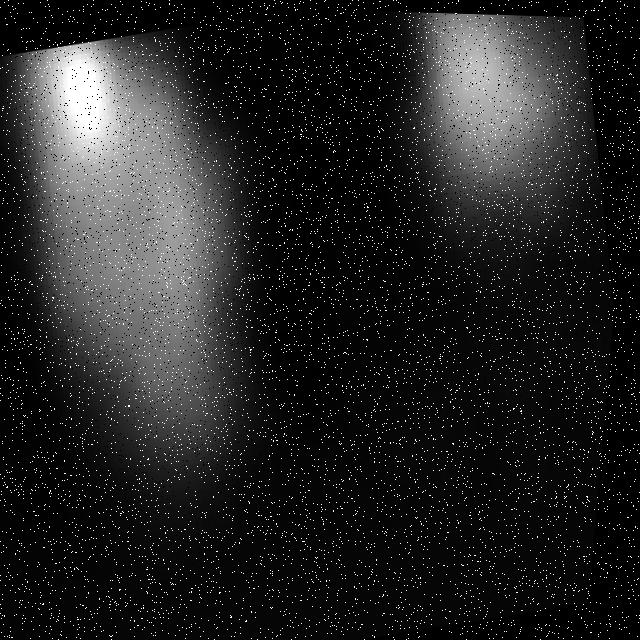person: (1, 7, 349, 526), (391, 10, 626, 280)
